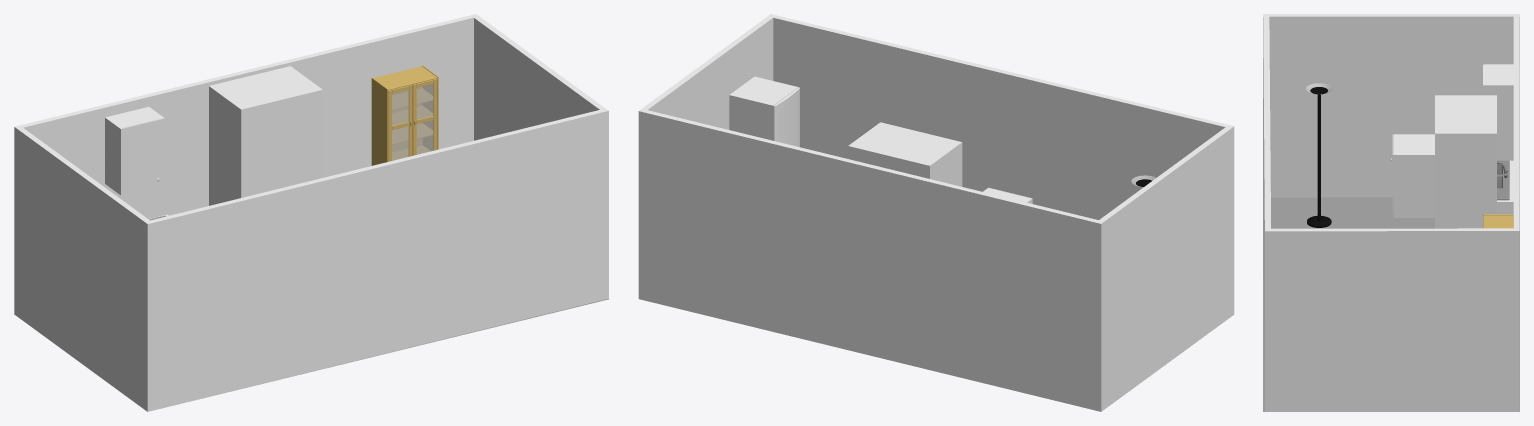
Rendered from tegel2.obj.
3 renders of one model, left to right at view 1: azimuth 30°, elevation 25°; view 2: azimuth 150°, elevation 25°; view 3: azimuth 270°, elevation 25°, orthographic. The views are drawn at different scales.
Visible parts, largest first — view 1: wall_3_16, wall_4_22, wall_1_5, Chimney_52, wall_2_11, UpperCabinet_32, sweethome3d_opening_on_hinge_1_door_62, Corps_60, sweethome3d_window_pane_on_hinge_2_38, sweethome3d_window_pane_on_hinge_1_35, wall_3_18, wall_1_6 (+4 smaller); view 2: wall_1_4, wall_3_17, wall_4_22, wall_2_11, Chimney_52, Corps_82, sweethome3d_opening_on_hinge_1_door_3_86, wall_3_18, wall_1_6, wall_1_7, wall_3_19, wall_4_23; view 3: wall_2_10, wall_4_23, Chimney_52, ground_1, Corps_55, Corps_60, wall_1_6, wall_1_7, wall_3_18, wall_3_19, wall_3_16, wall_4_24 (+9 smaller).
Part boxes in pixels (x1,y1,x2,y2): wall_3_16: (147,111,608,411); wall_4_22: (14,127,147,411); wall_1_5: (23,17,473,218); Chimney_52: (209,66,322,205); wall_2_11: (474,18,599,140); UpperCabinet_32: (371,65,438,165); sweethome3d_opening_on_hinge_1_door_62: (120,118,164,195); Corps_60: (105,107,163,194); sweethome3d_window_pane_on_hinge_2_38: (416,84,433,154); sweethome3d_window_pane_on_hinge_1_35: (392,90,408,160); wall_3_18: (148,110,608,223); wall_1_6: (19,14,475,126); wall_1_4: (638,111,1095,410); wall_3_17: (773,18,1225,219); wall_4_22: (1098,126,1234,411); wall_2_11: (648,18,773,129); Chimney_52: (848,122,962,186); Corps_82: (729,76,798,140); sweethome3d_opening_on_hinge_1_door_3_86: (773,88,799,147); wall_3_18: (771,14,1233,126); wall_1_6: (639,110,1097,222); wall_1_7: (644,110,1099,221); wall_3_19: (772,16,1228,127); wall_4_23: (1095,223,1098,410); wall_2_10: (1265,231,1519,411); wall_4_23: (1269,16,1519,197); Chimney_52: (1435,95,1496,228); ground_1: (1263,197,1519,411); Corps_55: (1393,134,1434,217); Corps_60: (1484,64,1513,148); wall_1_6: (1516,16,1519,230); wall_1_7: (1513,16,1516,229); wall_3_18: (1263,14,1267,230); wall_3_19: (1266,15,1270,229); wall_3_16: (1263,17,1264,400); wall_4_24: (1263,14,1519,15).
Bounding box in the file's own units: 628 × 250 × 314.
